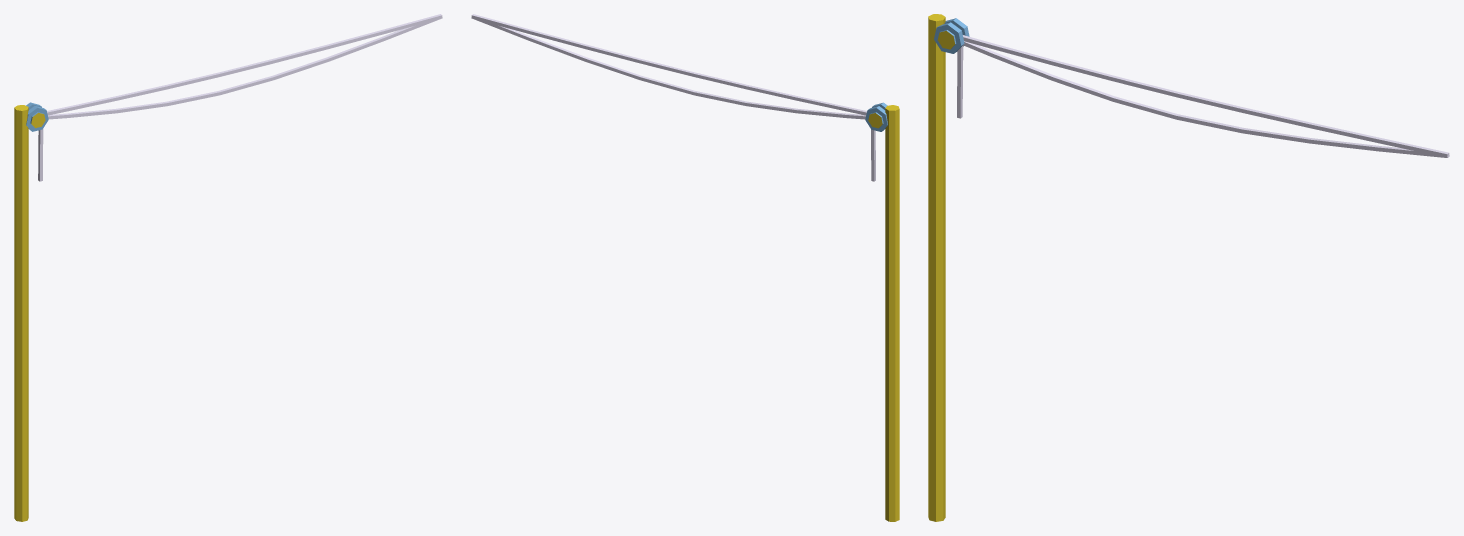
File: Clothes_Holder.fbx
3 renders of one model, left to right at view 1: azimuth 30°, elevation 25°; view 2: azimuth 150°, elevation 25°; view 3: azimuth 330°, elevation 25°, orthographic. The views are drawn at different scales.
Parts seen in each view (by area): view 1: Holder_1_A, Holder_Rope_1_B, Holder_Rope_1_A, Holder_1_B; view 2: Holder_1_A, Holder_Rope_1_B, Holder_Rope_1_A, Holder_1_B; view 3: Holder_1_A, Holder_Rope_1_B, Holder_Rope_1_A, Holder_1_B.
Boxes of the visible parts, x1=… form: Holder_1_A: x1=14, y1=105, x2=28, y2=521; Holder_Rope_1_B: x1=47, y1=14, x2=441, y2=115; Holder_Rope_1_A: x1=48, y1=15, x2=442, y2=119; Holder_1_B: x1=26, y1=102, x2=48, y2=131; Holder_1_A: x1=885, y1=105, x2=899, y2=521; Holder_Rope_1_B: x1=472, y1=14, x2=866, y2=115; Holder_Rope_1_A: x1=471, y1=15, x2=865, y2=119; Holder_1_B: x1=865, y1=102, x2=887, y2=131; Holder_1_A: x1=928, y1=14, x2=945, y2=521; Holder_Rope_1_B: x1=963, y1=35, x2=1449, y2=157; Holder_Rope_1_A: x1=963, y1=41, x2=1449, y2=157; Holder_1_B: x1=934, y1=18, x2=969, y2=53.
Bounding box in the file's own units: 1310 × 1207 × 48.6.
